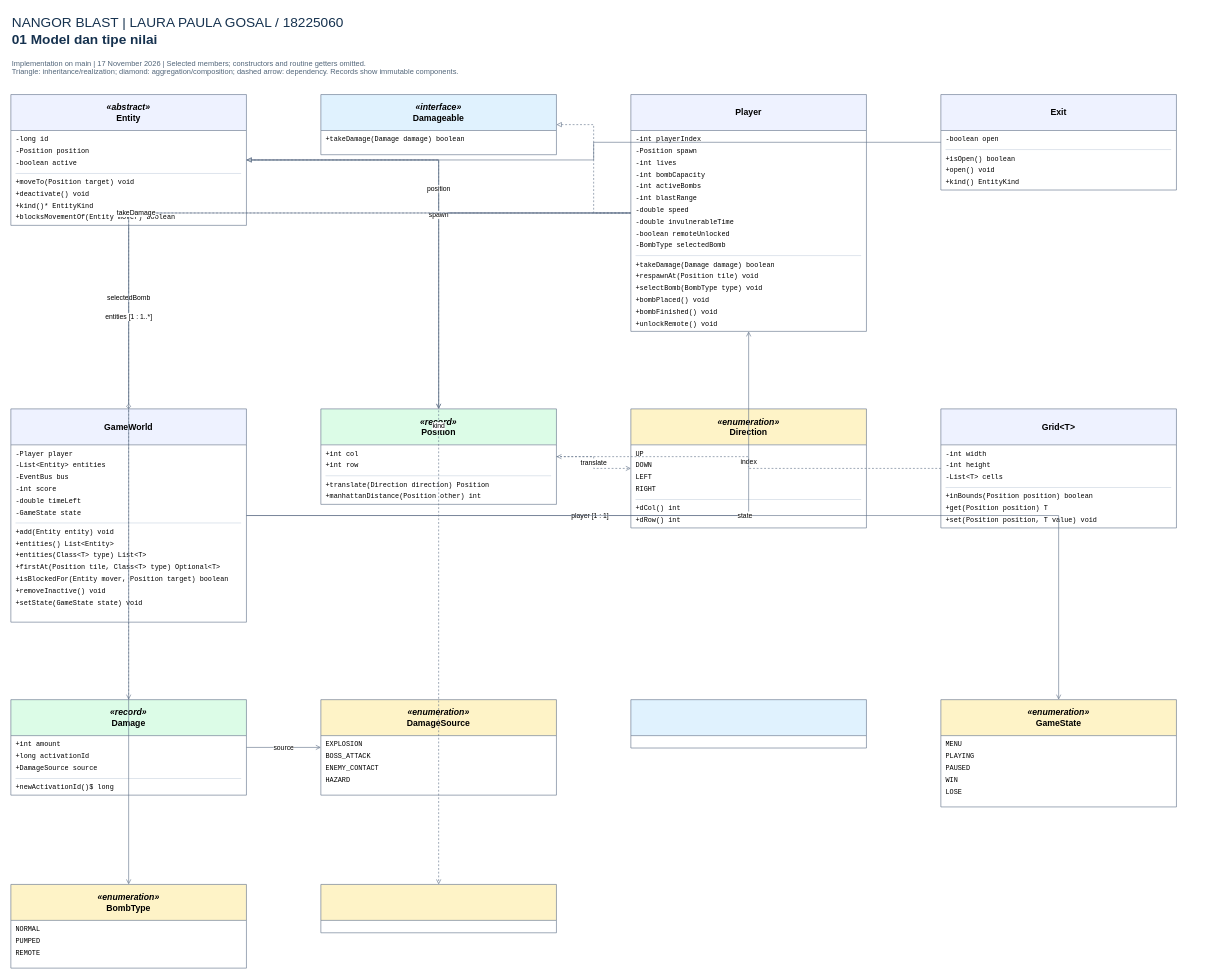
This 1225x979 diagram has some shape labels left out. Here are the shapes that lost their labels. From the top down, the centre of each, then its label:
At (x=748, y=723): "«interface» Hostile".
At (x=438, y=908): "«enumeration» EntityKind".
